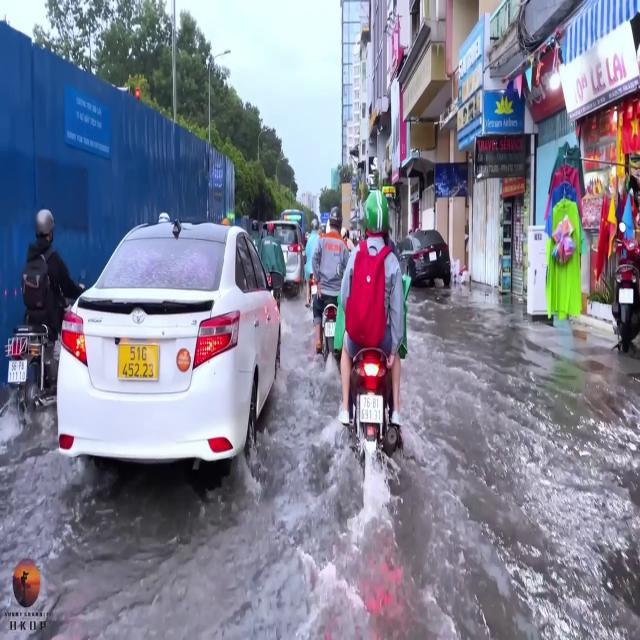bien_trang: (359, 391, 384, 429), (5, 358, 29, 384)
bien_vang: (120, 342, 161, 382)
